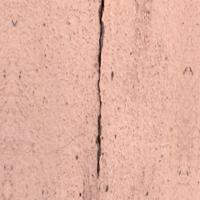crack: (78, 0, 138, 184)
